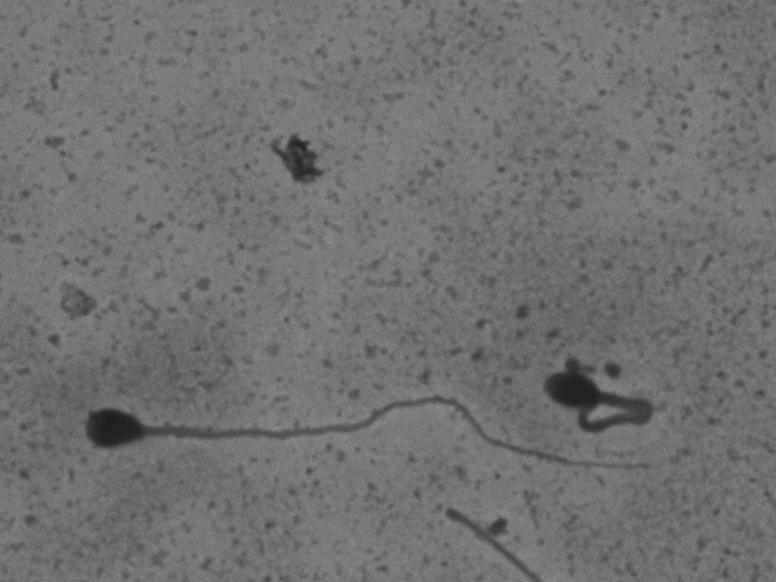Abnormal: (43, 380, 668, 485), (535, 341, 664, 440)
